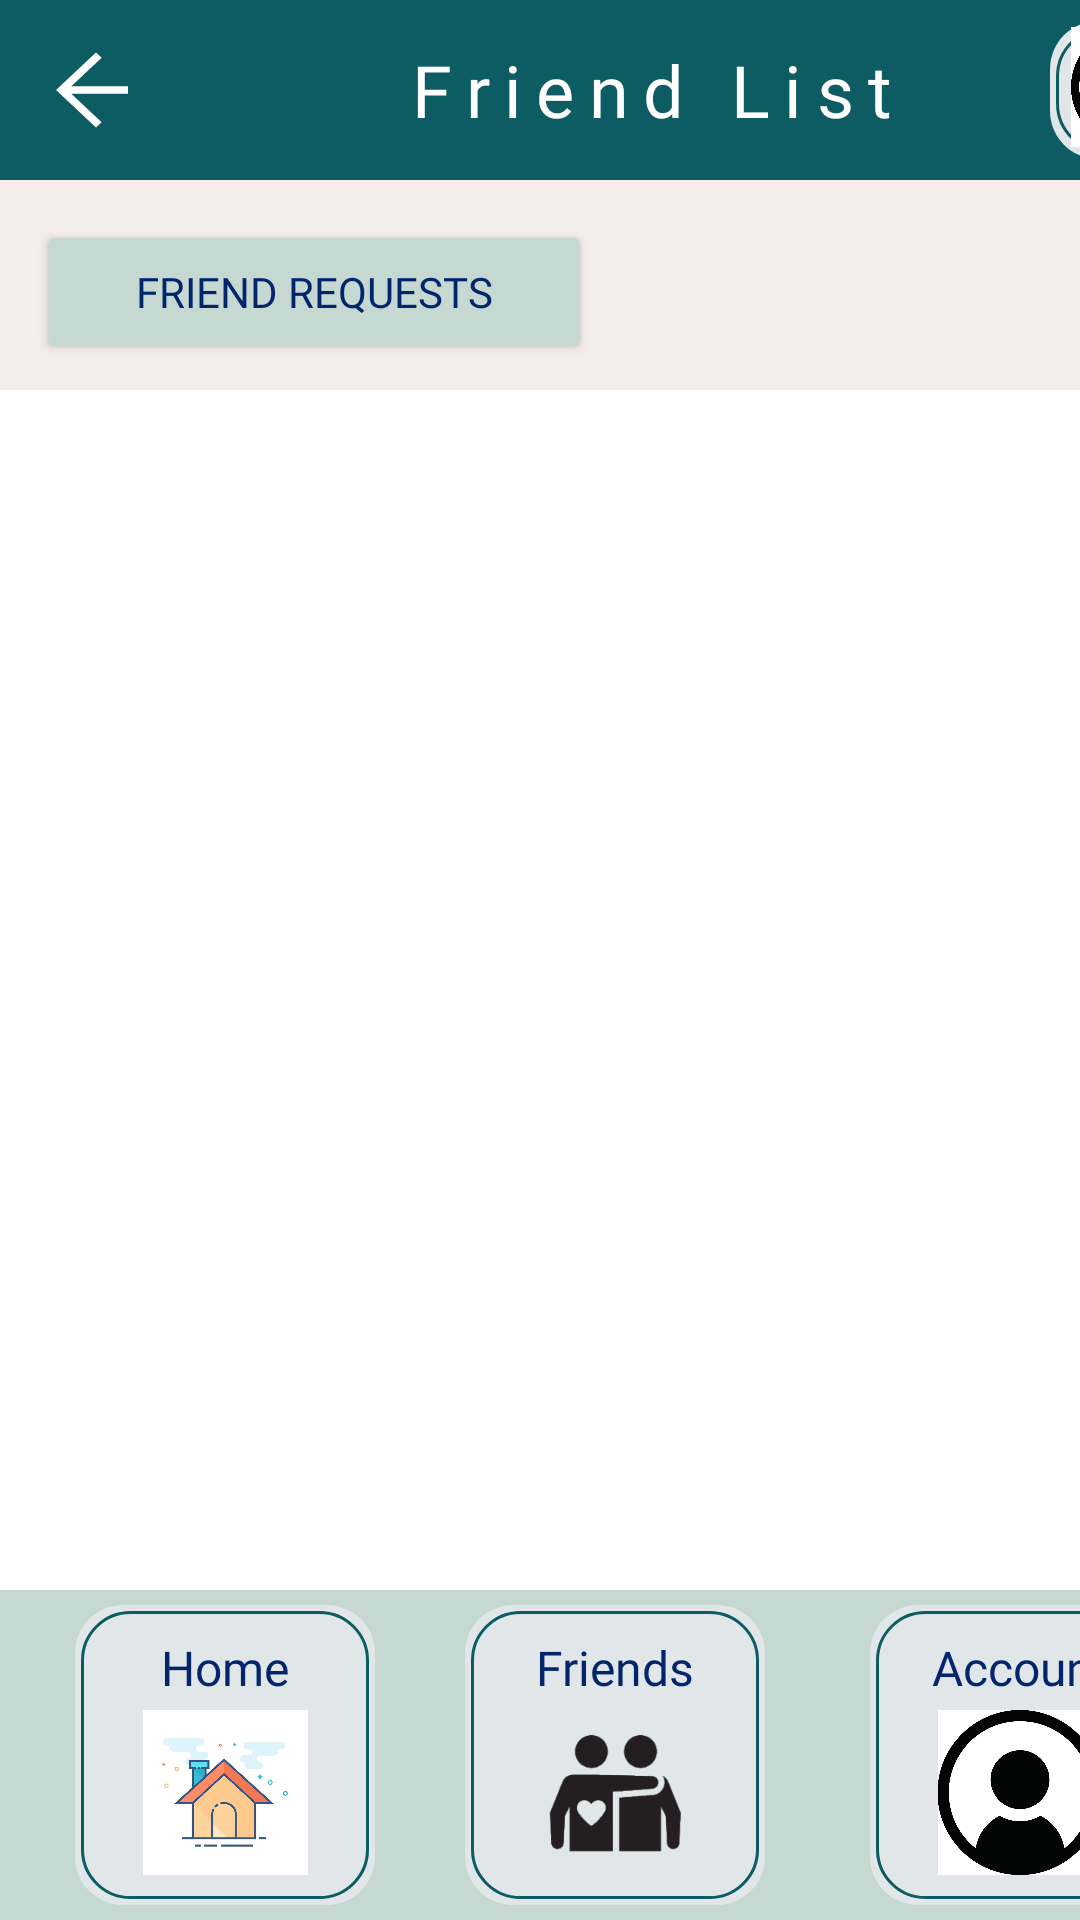

Icons on this 1080×1920 Android screen, each with its box as [x1,y1,x2,y2]:
Back: [56,52,128,128]
